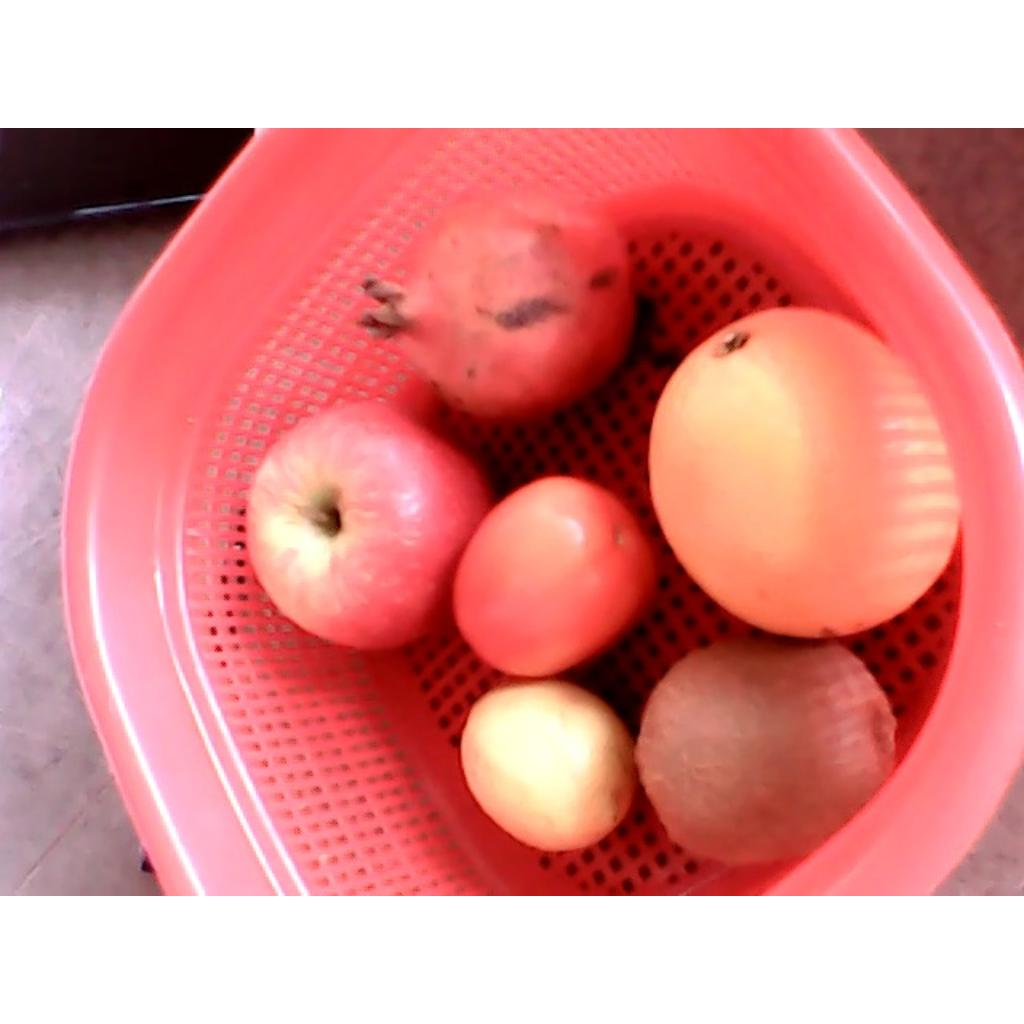apple: (242, 397, 495, 655)
kiwi: (633, 639, 898, 863)
lemon: (461, 680, 633, 851)
orange: (649, 305, 962, 640)
pomegranate: (357, 183, 636, 419)
tomato: (453, 474, 660, 677)
